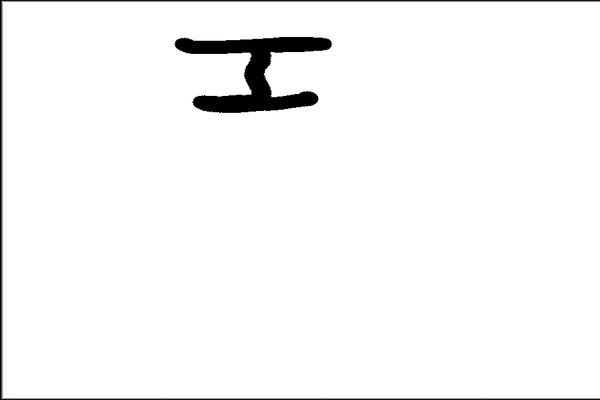i: (166, 31, 343, 109)
